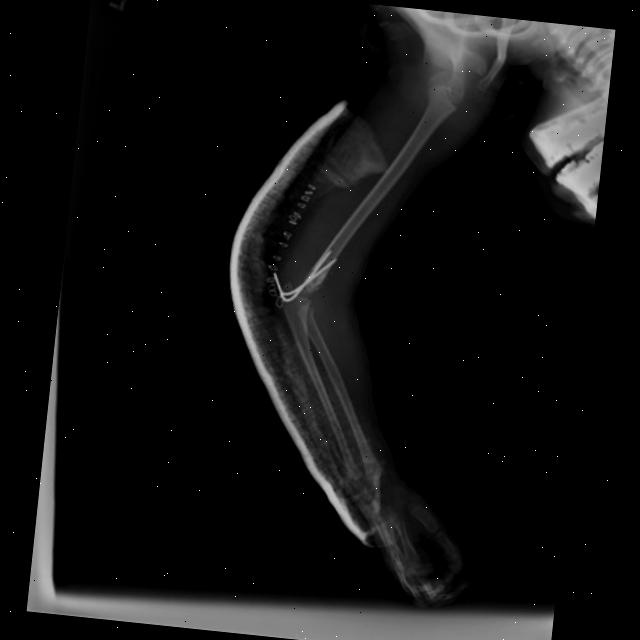fractured: (298, 276, 324, 300)
